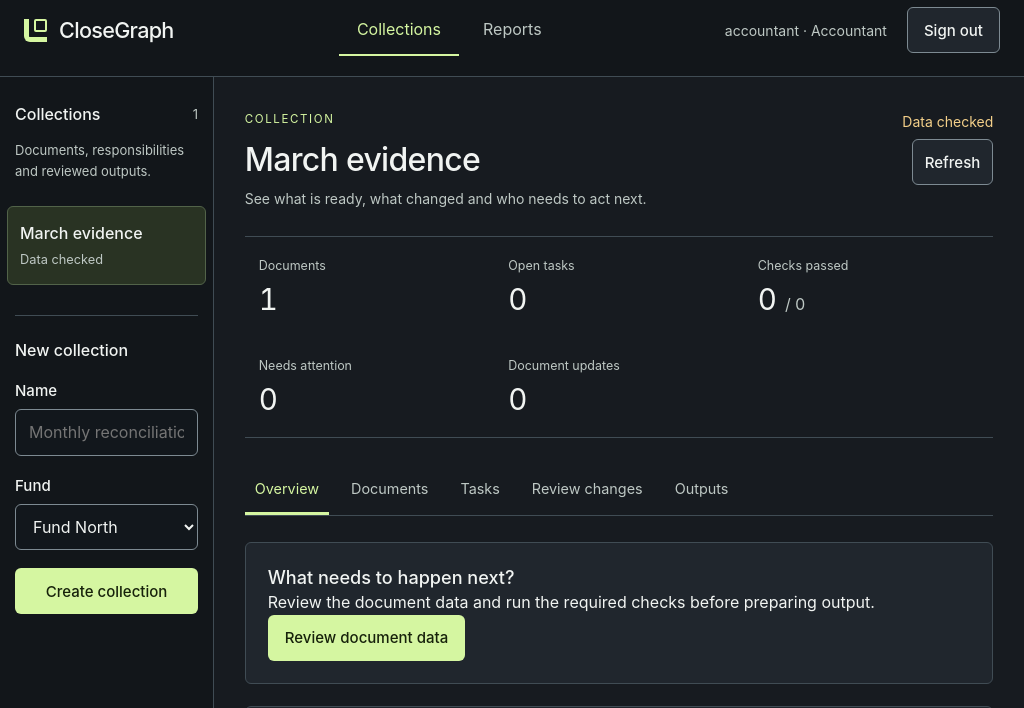
document-first evidence workspace › starts with readable navigation and keeps internal keys out of standard document review
This screenshot has width=1024, height=708.
Expected: the heading "March evidence" is shown, [245,140,480,179]
Expected: the button "Overview" is shown, [245,466,329,515]
Step 1. Click the button "Documents" → [390, 490], box [341,466,438,515]
(page scrolled)
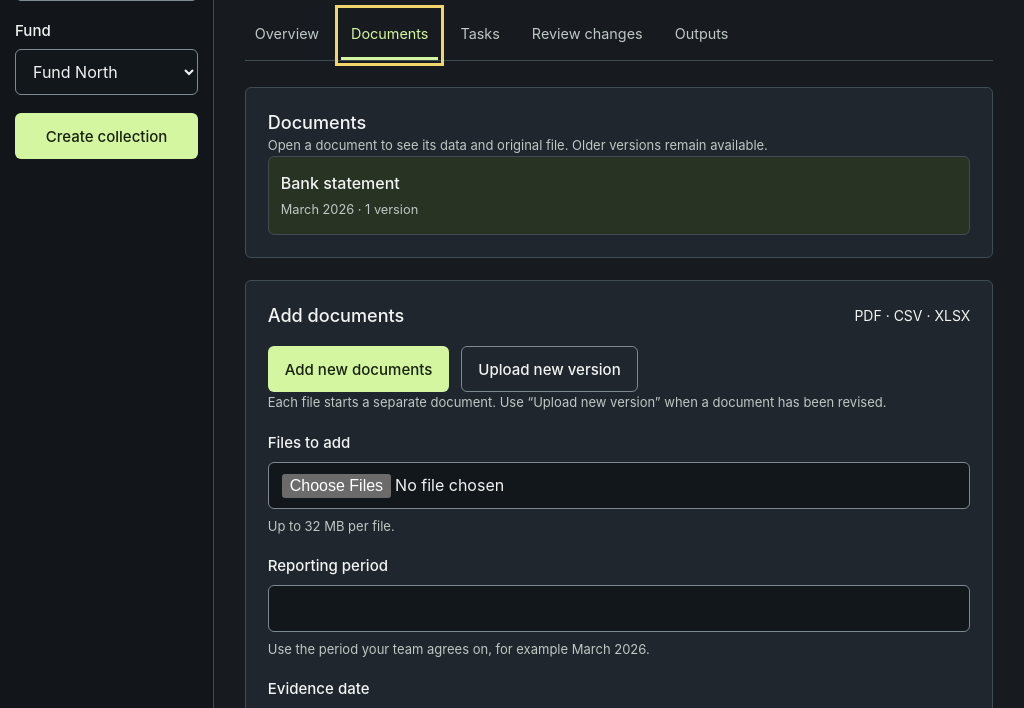
Now the button "Upload new version" is shown, box [461,346,638,392]
